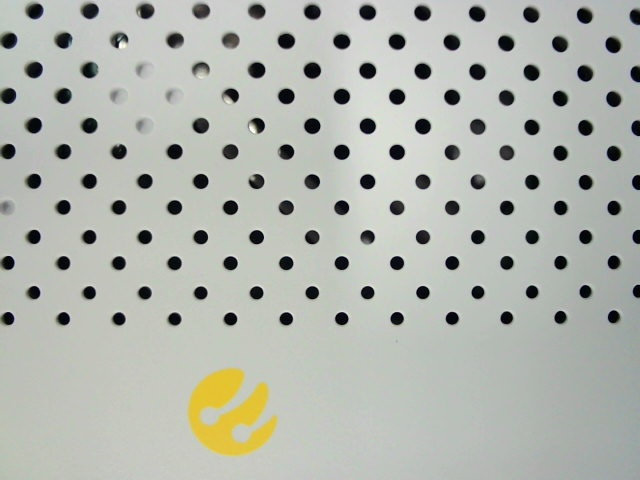AV_H3600Yellow: (176, 361, 282, 459)
